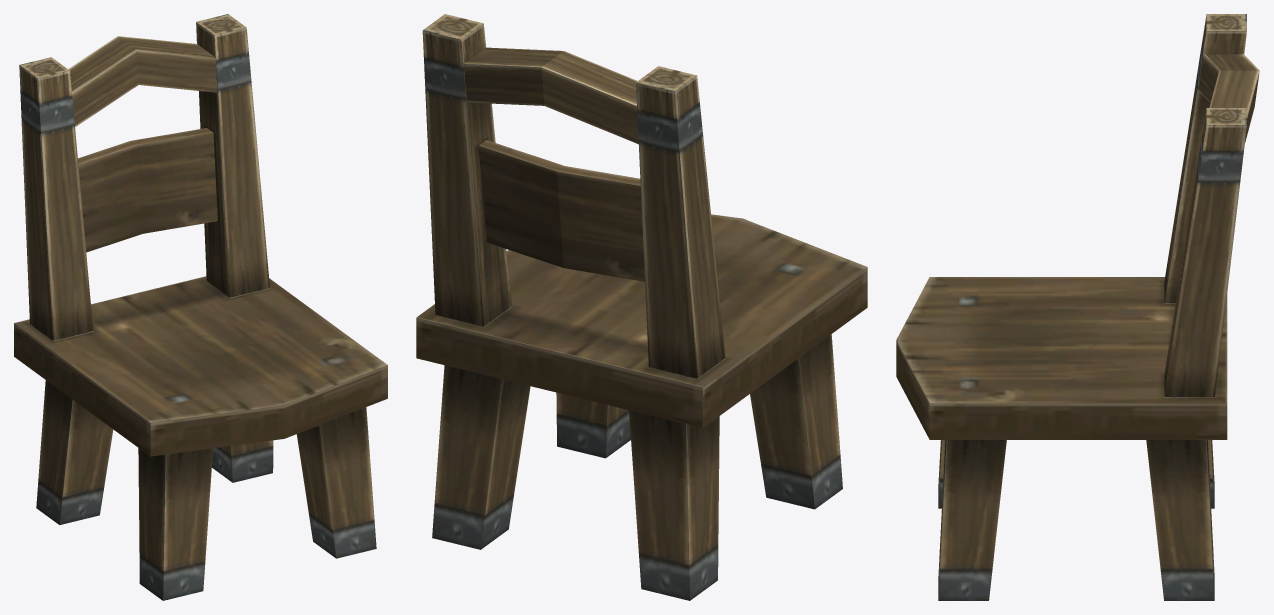
Rendered from chair.fbx.
3 renders of one model, left to right at view 1: azimuth 30°, elevation 25°; view 2: azimuth 150°, elevation 25°; view 3: azimuth 270°, elevation 25°, orthographic. The views are drawn at different scales.
Visible parts, largest first — view 1: obj0.015; view 2: obj0.015; view 3: obj0.015.
Part boxes in pixels (x1,y1,x2,y2): obj0.015: (14,14,387,600); obj0.015: (416,14,867,600); obj0.015: (896,14,1259,600).
Bounding box in the file's own units: 0.7392 × 1.29 × 0.8983.
